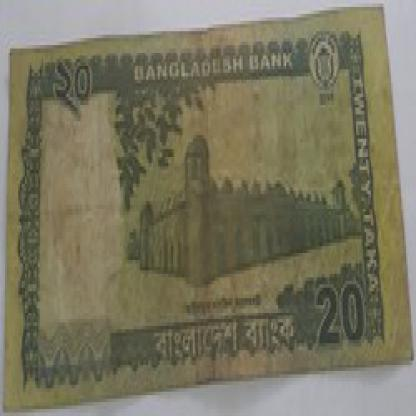Twenty: (50, 52, 115, 132), (311, 271, 373, 350)
